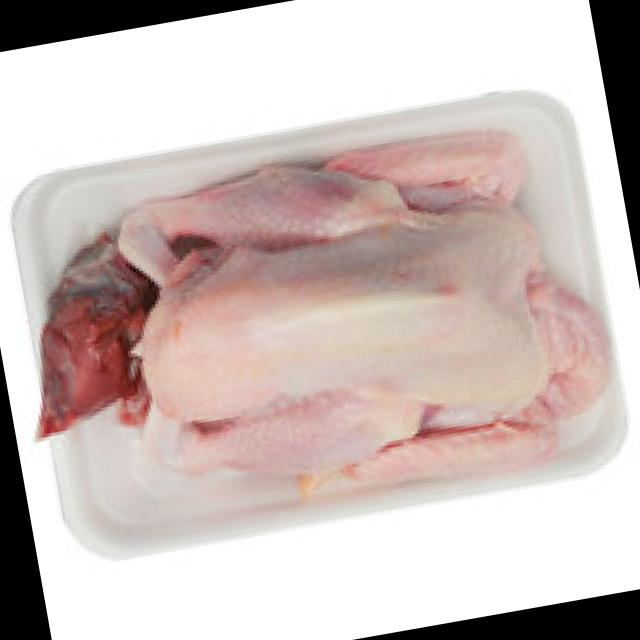Ayam: (2, 118, 620, 546)
